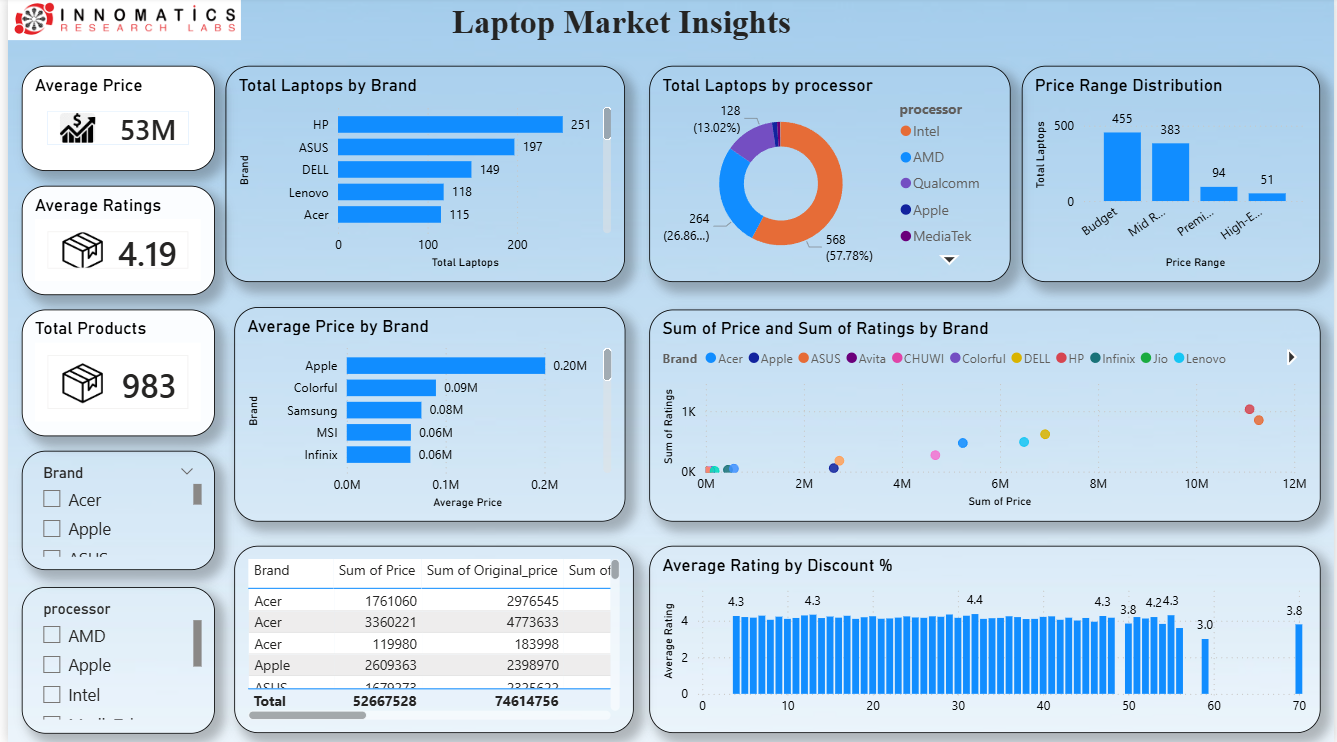

The dashboard page shown, as its layout file describes it:
{"tool":"powerbi","page":{"name":"Page 1","canvas":[1280,720],"ordinal":0},"visuals":[{"type":"textbox","box":[424,0,388.3,65.9],"z":0},{"type":"image","box":[0,0,225,42.5],"z":1000},{"type":"cardVisual","title":"Average Price","fields":{"Data":["Sum(Flipkart_Laptop_sales.Price)"]},"box":[13.7,65.9,186.6,101.5],"z":2000},{"type":"cardVisual","title":"Average Ratings","fields":{"Data":["Flipkart_Laptop_sales.Average Rating"]},"box":[13.7,182.5,186.6,105.7],"z":3000},{"type":"cardVisual","title":"Total Products","fields":{"Data":["Flipkart_Laptop_sales.Total Products"]},"box":[13.7,301.9,186.6,122.1],"z":4000},{"type":"barChart","fields":{"Category":["Flipkart_Laptop_sales.Brand"],"Y":["Flipkart_Laptop_sales.Total Laptops"]},"box":[209.9,65.9,385.6,208.6],"z":5000},{"type":"donutChart","fields":{"Category":["Flipkart_Laptop_sales.processor"],"Y":["Flipkart_Laptop_sales.Total Laptops"]},"box":[618.9,65.9,348.5,208.6],"z":6000},{"type":"columnChart","title":"Price Range Distribution","fields":{"Category":["Flipkart_Laptop_sales.Price Range"],"Y":["Flipkart_Laptop_sales.Total Laptops"]},"box":[978.4,65.9,288.2,208.6],"z":7000},{"type":"barChart","fields":{"Category":["Flipkart_Laptop_sales.Brand"],"Y":["Flipkart_Laptop_sales.Average Price"]},"box":[218.2,299.1,377.4,207.2],"z":8000},{"type":"scatterChart","fields":{"X":["Sum(Flipkart_Laptop_sales.Price)"],"Y":["Sum(Flipkart_Laptop_sales.Ratings)"],"Series":["Flipkart_Laptop_sales.Brand"]},"box":[618.9,301.9,647.7,204.5],"z":9000},{"type":"columnChart","fields":{"Category":["Flipkart_Laptop_sales.Discount %"],"Y":["Flipkart_Laptop_sales.Average Rating"]},"box":[618.9,529.7,647.7,181.1],"z":10000},{"type":"tableEx","fields":{"Values":["Flipkart_Laptop_sales.Brand","Sum(Flipkart_Laptop_sales.Price)","Sum(Flipkart_Laptop_sales.Original_price)","Sum(Flipkart_Laptop_sales.Discount %)","Sum(Flipkart_Laptop_sales.Ratings)","Sum(Flipkart_Laptop_sales.no_of_ratings)","Sum(Flipkart_Laptop_sales.no_of_reviews)","Sum(Flipkart_Laptop_sales.RAM)","Sum(Flipkart_Laptop_sales.Storage)","Flipkart_Laptop_sales.processor"]},"box":[218.2,529.7,385.6,181.1],"z":11000},{"type":"slicer","fields":{"Values":["Flipkart_Laptop_sales.Brand"]},"box":[13.7,437.7,186.6,115.3],"z":12000},{"type":"slicer","fields":{"Values":["Flipkart_Laptop_sales.processor"]},"box":[13.7,569.5,186.6,141.3],"z":13000}]}

Visuals, with their boxes in screenshot pixels (x1, y1, x2, y2), scaled from the page's 1280x720 canvas onto the 1337x742 screenshot:
textbox: {"left": 443, "top": 0, "right": 848, "bottom": 68}
image: {"left": 0, "top": 0, "right": 235, "bottom": 44}
"Average Price" cardVisual: {"left": 14, "top": 68, "right": 209, "bottom": 173}
"Average Ratings" cardVisual: {"left": 14, "top": 188, "right": 209, "bottom": 297}
"Total Products" cardVisual: {"left": 14, "top": 311, "right": 209, "bottom": 437}
barChart - Flipkart_Laptop_sales.Brand x Flipkart_Laptop_sales.Total Laptops: {"left": 219, "top": 68, "right": 622, "bottom": 283}
donutChart - Flipkart_Laptop_sales.processor x Flipkart_Laptop_sales.Total Laptops: {"left": 646, "top": 68, "right": 1010, "bottom": 283}
"Price Range Distribution" columnChart: {"left": 1022, "top": 68, "right": 1323, "bottom": 283}
barChart - Flipkart_Laptop_sales.Brand x Flipkart_Laptop_sales.Average Price: {"left": 228, "top": 308, "right": 622, "bottom": 522}
scatterChart - Sum(Flipkart_Laptop_sales.Price) x Sum(Flipkart_Laptop_sales.Ratings): {"left": 646, "top": 311, "right": 1323, "bottom": 522}
columnChart - Flipkart_Laptop_sales.Discount % x Flipkart_Laptop_sales.Average Rating: {"left": 646, "top": 546, "right": 1323, "bottom": 733}
tableEx - Flipkart_Laptop_sales.Brand x Sum(Flipkart_Laptop_sales.Price): {"left": 228, "top": 546, "right": 631, "bottom": 733}
slicer - Flipkart_Laptop_sales.Brand: {"left": 14, "top": 451, "right": 209, "bottom": 570}
slicer - Flipkart_Laptop_sales.processor: {"left": 14, "top": 587, "right": 209, "bottom": 733}
